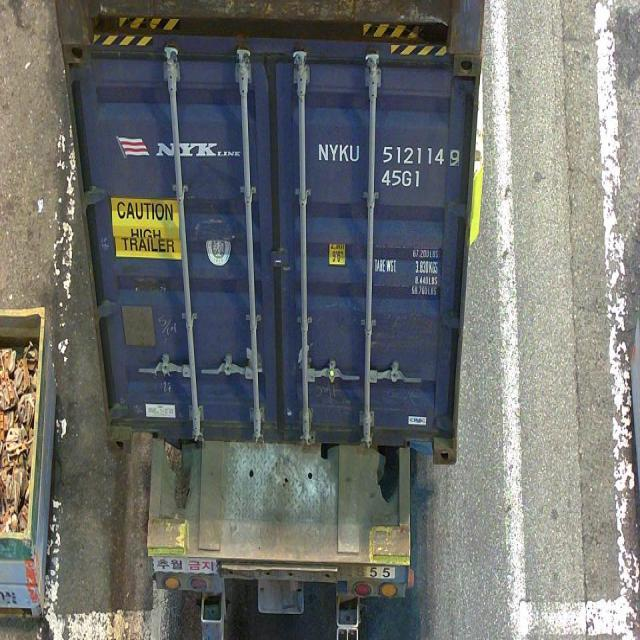ISO: (380, 169, 423, 188)
container_number: (323, 145, 461, 167)
